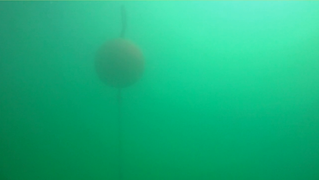buoy: (94, 38, 145, 88)
